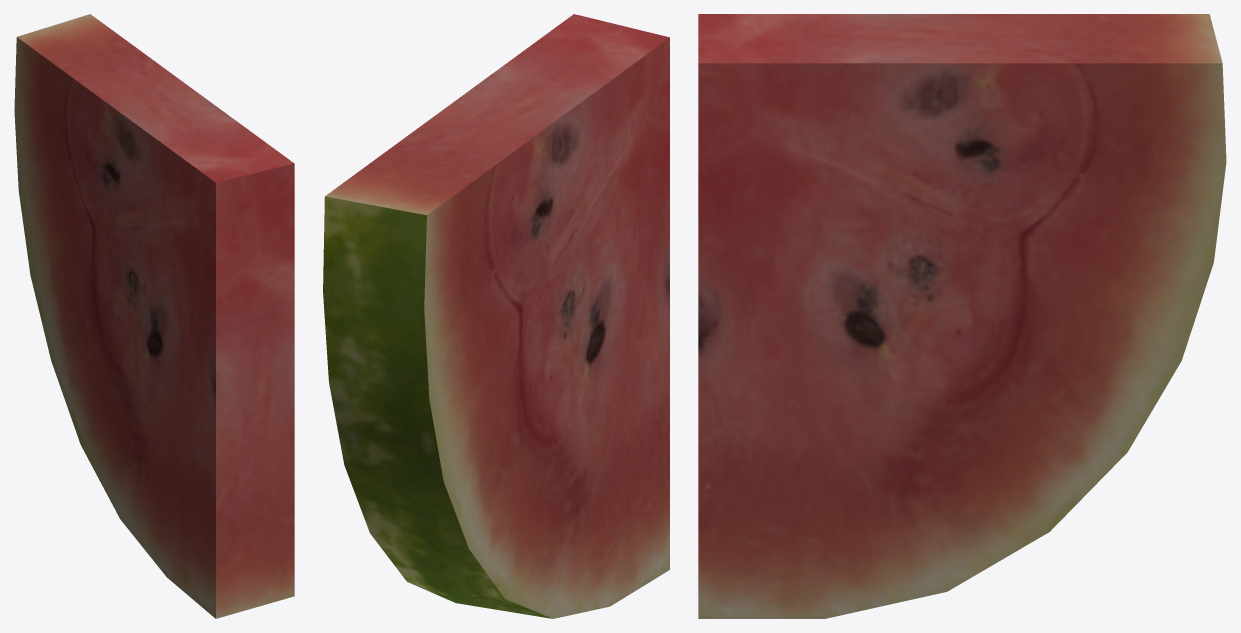
Rendered from Watermelon_QuaterSlice.fbx.
The picture shows the model from 3 angles, left to right: view 1: azimuth 30°, elevation 25°; view 2: azimuth 150°, elevation 25°; view 3: azimuth 270°, elevation 25°; orthographic projection. The views are drawn at different scales.
Visible parts, largest first — view 1: Watermelon_QuaterSlice; view 2: Watermelon_QuaterSlice; view 3: Watermelon_QuaterSlice.
Boxes of the visible parts, <box> form: Watermelon_QuaterSlice: <box>14,14,294,618</box>; Watermelon_QuaterSlice: <box>323,14,669,618</box>; Watermelon_QuaterSlice: <box>698,14,1226,618</box>.
Bounding box in the file's own units: 219 × 1162 × 993.
